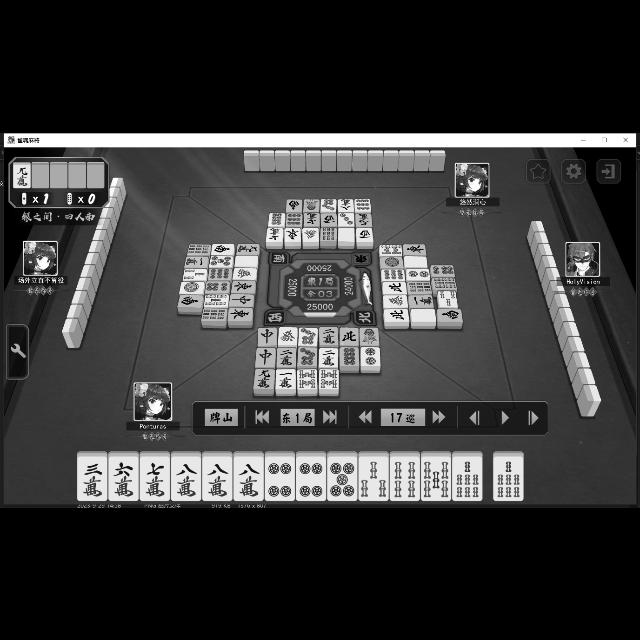1m: (276, 368, 296, 388), (408, 294, 434, 306), (182, 255, 208, 267)
1p: (178, 281, 204, 293), (380, 256, 404, 268)
1s: (360, 326, 380, 346), (304, 197, 320, 211)
2m: (276, 347, 296, 367), (318, 348, 338, 367), (319, 326, 339, 344)
2p: (360, 347, 380, 365), (406, 267, 429, 279)
3m: (78, 456, 108, 500)
3p: (338, 212, 354, 226)
3s: (358, 456, 389, 500), (438, 289, 458, 307), (182, 267, 206, 279)
4p: (265, 456, 295, 500), (296, 456, 326, 500)
4s: (390, 456, 420, 500)
5p: (328, 456, 357, 500), (210, 255, 232, 267)
5s: (421, 456, 451, 500), (204, 294, 228, 306)
6m: (108, 456, 138, 500)
6p: (431, 264, 455, 276), (206, 280, 228, 292)
6s: (432, 276, 458, 288)
7m: (140, 456, 170, 500), (302, 212, 320, 226), (266, 227, 282, 241)
7p: (298, 326, 318, 346), (298, 346, 316, 366), (321, 197, 337, 211)
7s: (452, 456, 483, 500), (493, 456, 523, 500)
8m: (203, 456, 233, 500), (234, 456, 264, 500), (172, 456, 200, 500), (338, 198, 354, 212)
8p: (340, 347, 360, 365), (268, 211, 284, 225)
8s: (318, 368, 339, 388), (298, 368, 316, 388), (379, 243, 403, 255)
9m: (254, 368, 274, 388), (14, 165, 31, 188), (237, 242, 260, 254), (356, 212, 372, 226)
9p: (208, 266, 232, 280), (381, 268, 405, 280), (286, 211, 302, 227), (355, 198, 371, 212)
9s: (202, 306, 226, 320), (408, 280, 432, 294), (186, 242, 210, 254), (319, 226, 336, 240)
chun: (255, 347, 275, 368), (258, 326, 276, 346), (230, 292, 254, 306)
haku: (410, 308, 438, 322), (404, 255, 428, 267), (235, 254, 258, 266), (338, 226, 354, 240)
hatsu: (278, 326, 298, 346), (382, 294, 408, 308), (232, 268, 258, 278), (302, 227, 318, 241)
nan: (436, 308, 464, 322), (211, 242, 235, 254), (178, 294, 202, 306), (286, 198, 302, 212)
pe: (339, 327, 358, 345), (384, 308, 410, 320), (383, 281, 407, 293)
sha: (355, 227, 373, 241), (320, 212, 338, 225)
tou: (230, 280, 256, 292), (228, 308, 252, 320), (404, 243, 426, 255), (284, 228, 300, 240)
